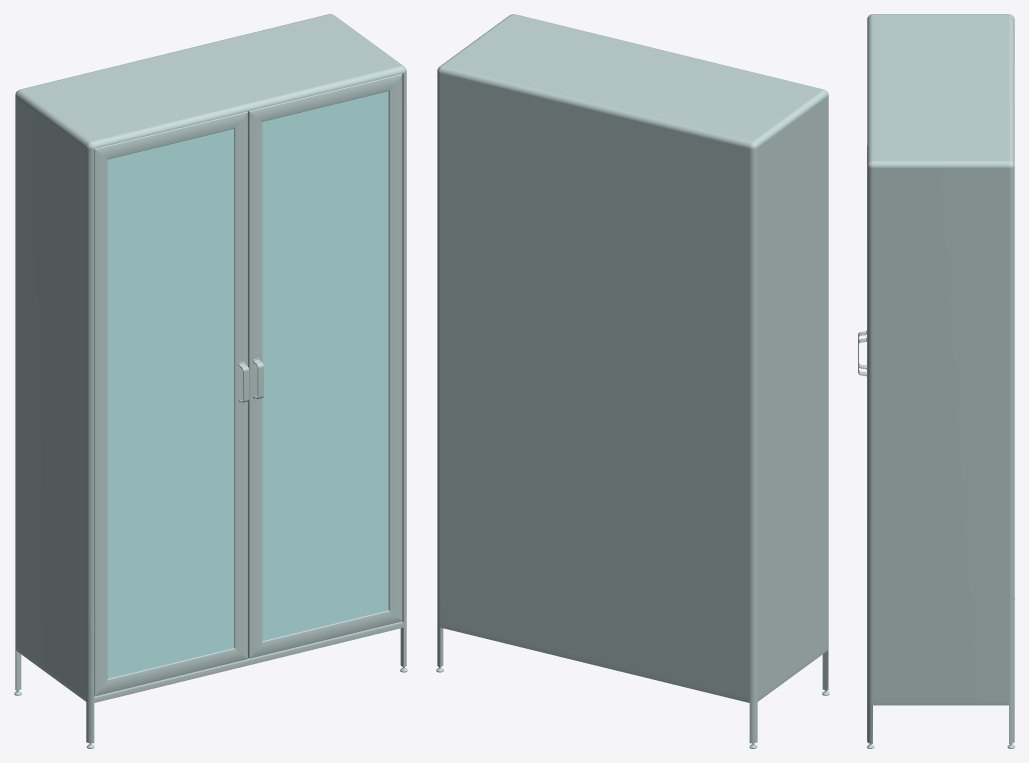
File: large_medical_cabinet.fbx
3 views of the same model, side by side, from view 1: azimuth 30°, elevation 25°; view 2: azimuth 150°, elevation 25°; view 3: azimuth 270°, elevation 25° (orthographic). The views are drawn at different scales.
Visible parts, largest first — view 1: medical_cabinet_door_r, medical_cabinet_door_l, large_medical_cabinet; view 2: large_medical_cabinet; view 3: large_medical_cabinet.
Boxes of the visible parts, x1=… form: medical_cabinet_door_r: x1=248, y1=74, x2=402, y2=658; medical_cabinet_door_l: x1=94, y1=111, x2=249, y2=696; large_medical_cabinet: x1=14, y1=14, x2=407, y2=748; large_medical_cabinet: x1=436, y1=14, x2=829, y2=748; large_medical_cabinet: x1=867, y1=14, x2=1014, y2=748.
Bounding box in the file's own units: 96.89 × 175 × 42.49.
